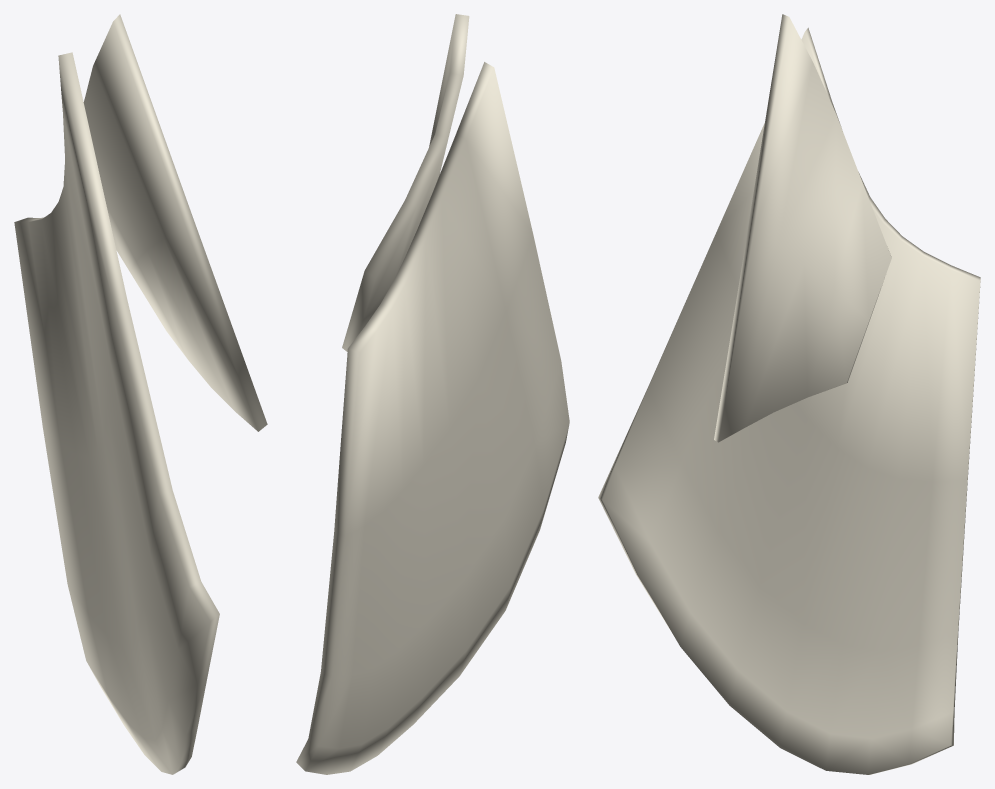
The picture shows the model from 3 angles, left to right: view 1: azimuth 30°, elevation 25°; view 2: azimuth 150°, elevation 25°; view 3: azimuth 270°, elevation 25°; orthographic projection. The views are drawn at different scales.
Visible parts, largest first — view 1: ZA_a2fdc4f48eee1e5a; view 2: ZA_a2fdc4f48eee1e5a; view 3: ZA_a2fdc4f48eee1e5a.
Boxes of the visible parts, <box> form: ZA_a2fdc4f48eee1e5a: <box>14,14,267,774</box>; ZA_a2fdc4f48eee1e5a: <box>296,14,569,774</box>; ZA_a2fdc4f48eee1e5a: <box>598,14,980,774</box>.
Bounding box in the file's own units: 0.00626 × 0.0295 × 0.014.
